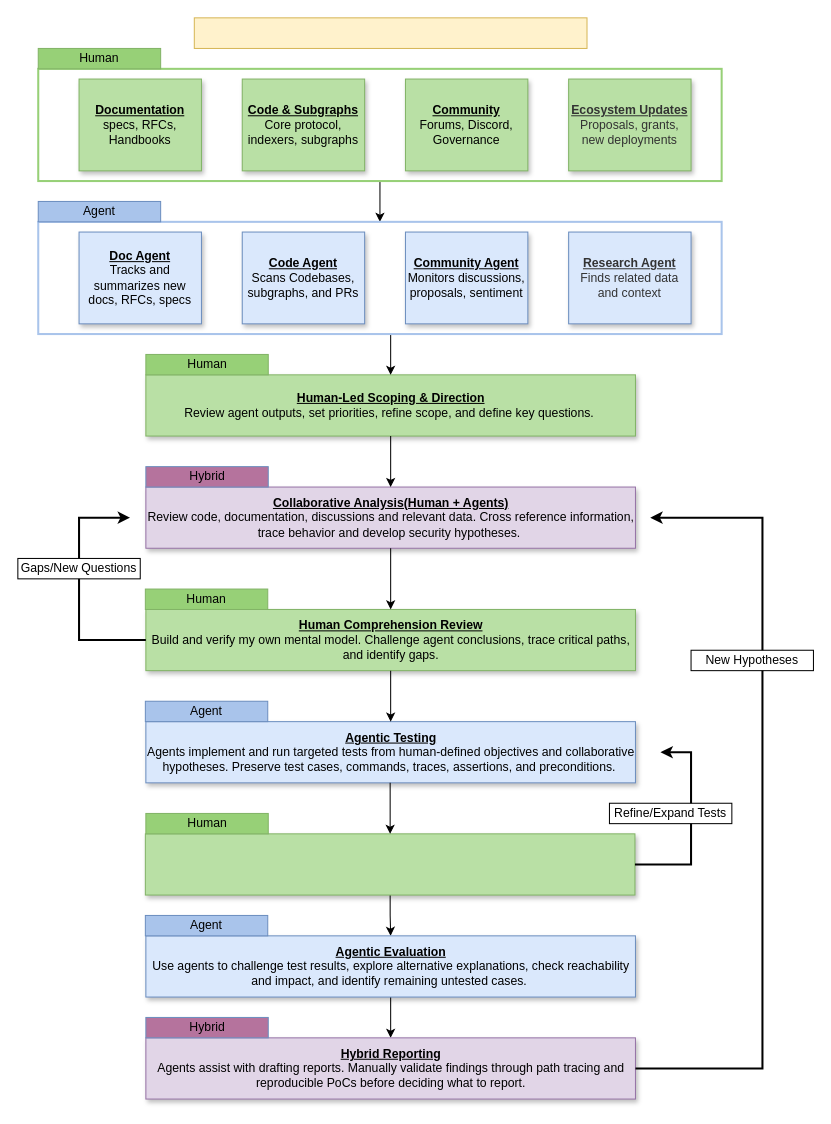
Some shapes in this 831 by 1124 pixel diagram are drawn without their labels. The centre of each missing label's shape, as x and y in pixels:
Agentic-Human Hybrid Methodology After yBorg Fellowship: (390,32)
Testing Review Review the tests and their results.: (390,865)
